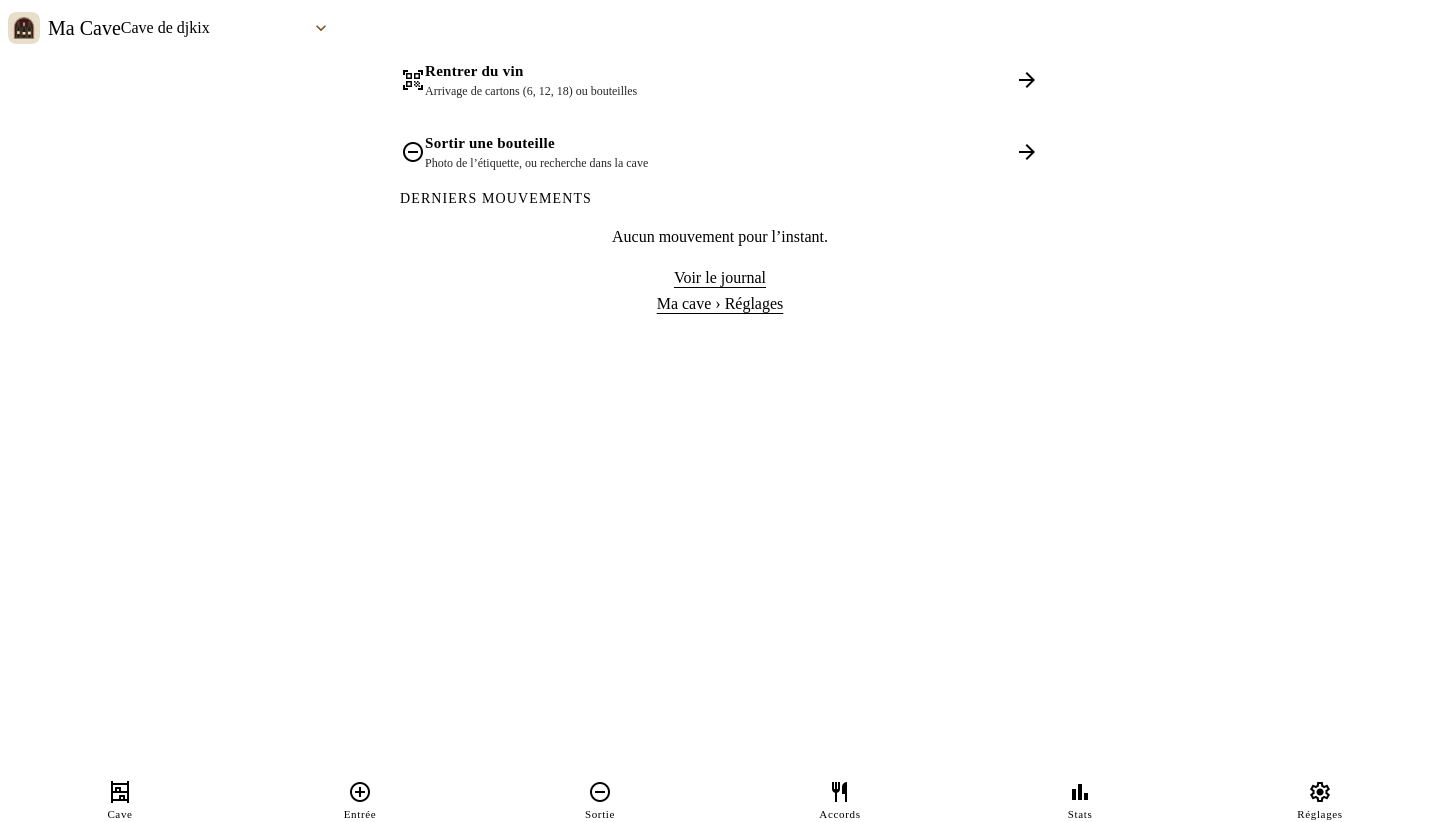
Test: changement de cave › depuis l’accueil, ne relance ni « à confirmer » ni la file d’analyse pour une cave en lecture
The width and height of the screenshot is (1440, 822).
Select "Cave de Paul · Lecture seule" in the dropdown named "Cave". click: x=229, y=28
box: [121,12,337,44]
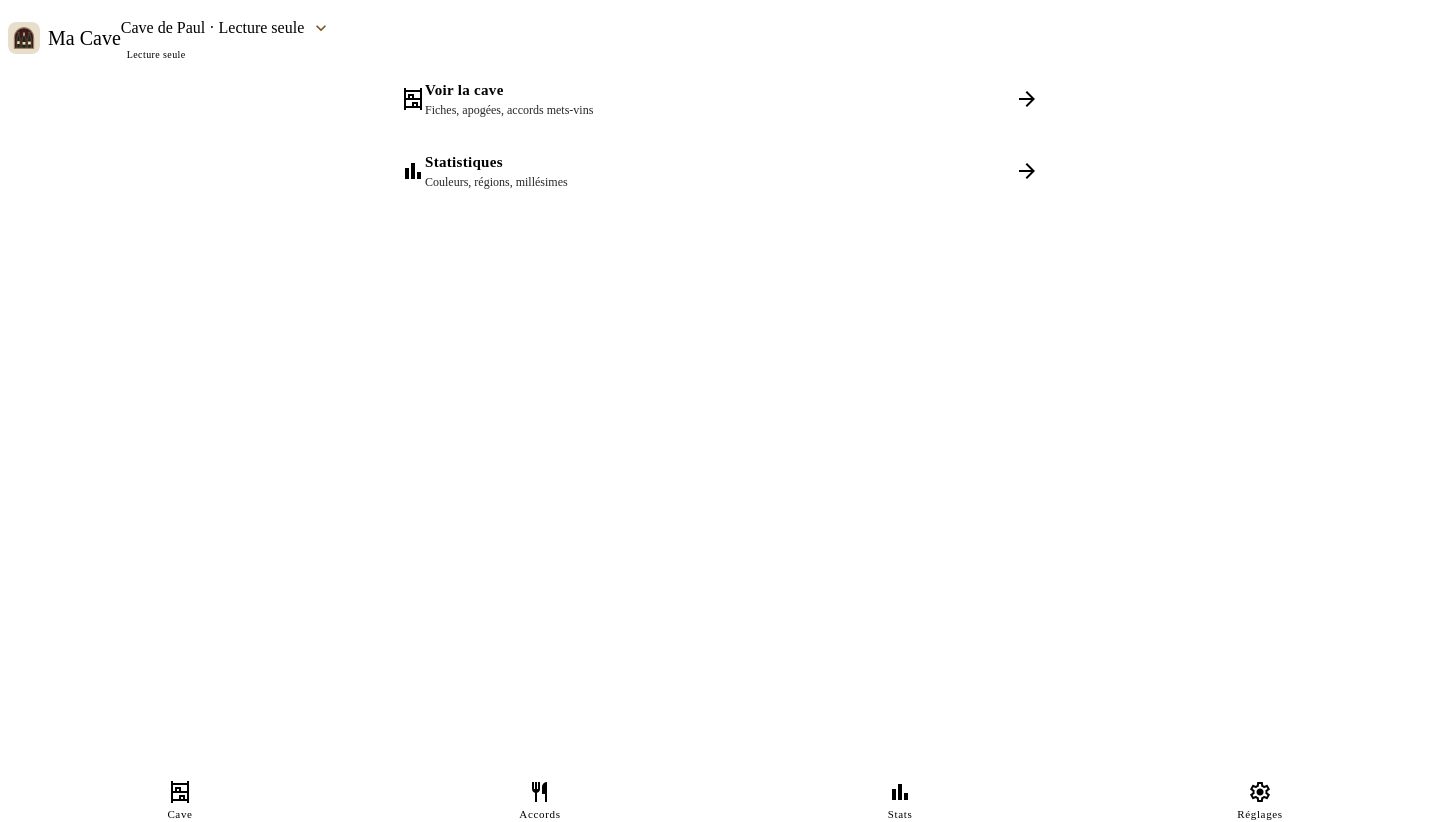
Result: the link "Voir la cave Fiches, apogées, accords mets-vins" is shown at [401,82,1039,117]
